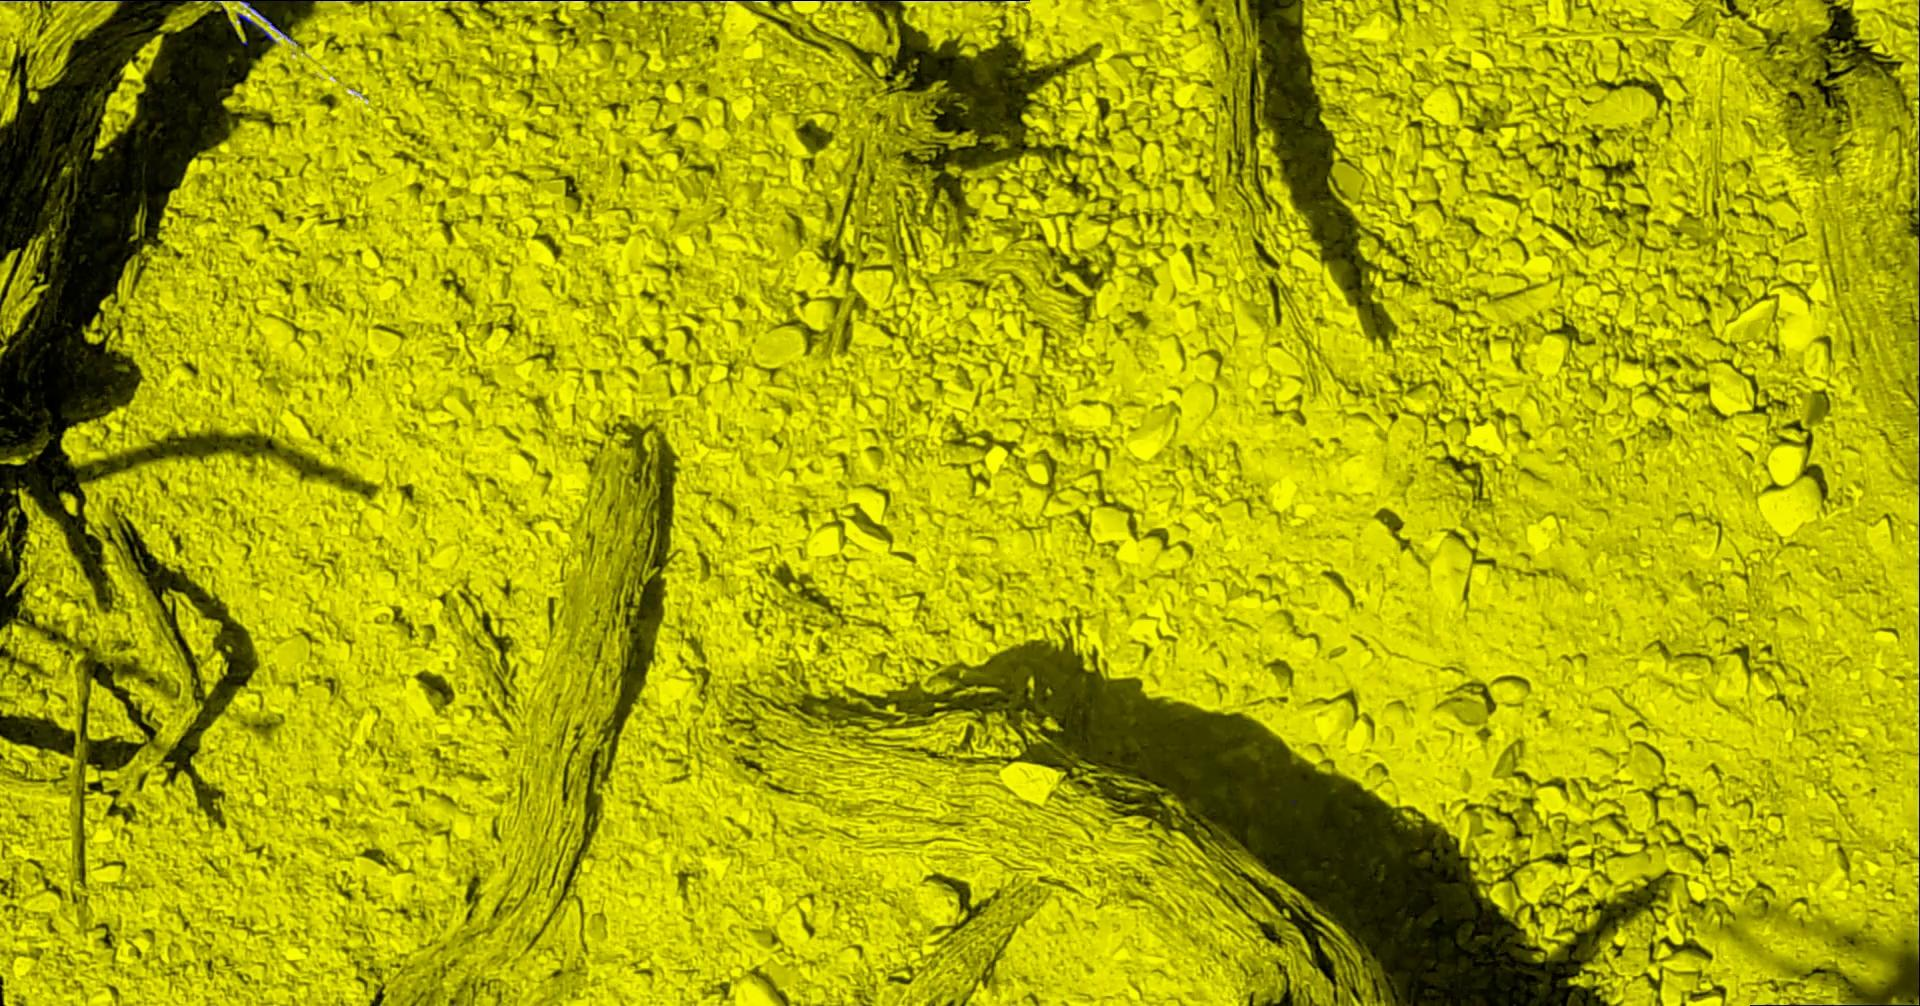ant: (240, 0, 290, 38), (236, 11, 276, 42)
